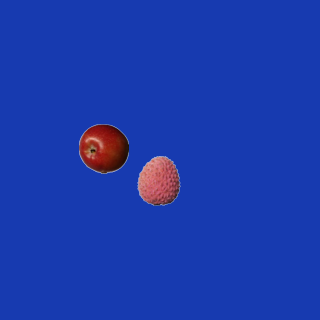Apple Braeburn: (78, 123, 128, 173)
Lychee: (133, 155, 183, 205)
